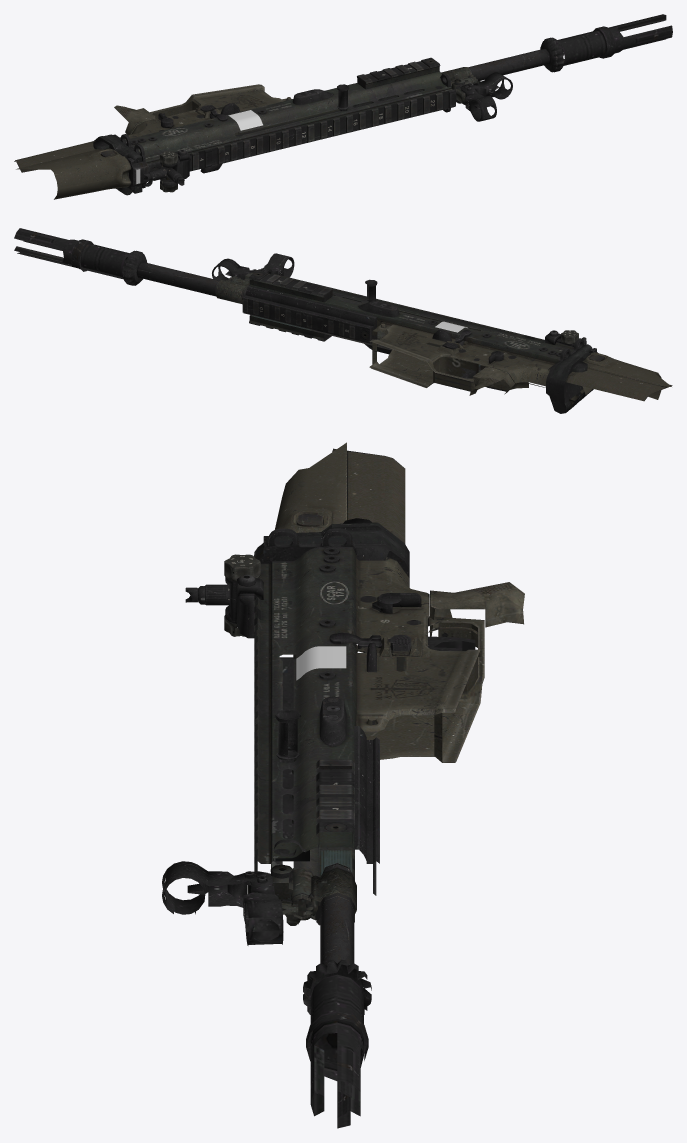
The model's file is t6_wpn_ar_scarh_view_LOD0.obj.
3 views of the same model, one above another, from view 1: azimuth 30°, elevation 25°; view 2: azimuth 150°, elevation 25°; view 3: azimuth 270°, elevation 25° (orthographic). The views are drawn at different scales.
Parts seen in each view (by area): view 1: mtl_t6_wpn_ar_scarh_camo1, mtl_t6_wpn_ar_scarh_camo3, mtl_t6_wpn_ar_scarh_camo2, mtl_t6_wpn_ar_scarh_camo4, mtl_player_icon; view 2: mtl_t6_wpn_ar_scarh_camo1, mtl_t6_wpn_ar_scarh_camo2, mtl_t6_wpn_ar_scarh_camo3, mtl_t6_wpn_ar_scarh_camo4; view 3: mtl_t6_wpn_ar_scarh_camo1, mtl_t6_wpn_ar_scarh_camo3, mtl_t6_wpn_ar_scarh_camo2, mtl_t6_wpn_ar_scarh_camo4, mtl_player_icon.
Part boxes in pixels (x1,y1,x2,y2): mtl_t6_wpn_ar_scarh_camo1: [94, 14, 672, 195]; mtl_t6_wpn_ar_scarh_camo3: [93, 26, 615, 192]; mtl_t6_wpn_ar_scarh_camo2: [16, 90, 291, 199]; mtl_t6_wpn_ar_scarh_camo4: [14, 140, 115, 172]; mtl_player_icon: [228, 110, 262, 130]; mtl_t6_wpn_ar_scarh_camo1: [14, 228, 597, 413]; mtl_t6_wpn_ar_scarh_camo2: [372, 319, 671, 399]; mtl_t6_wpn_ar_scarh_camo3: [71, 239, 587, 387]; mtl_t6_wpn_ar_scarh_camo4: [565, 354, 672, 401]; mtl_t6_wpn_ar_scarh_camo1: [162, 522, 524, 1128]; mtl_t6_wpn_ar_scarh_camo3: [198, 518, 480, 1063]; mtl_t6_wpn_ar_scarh_camo2: [275, 442, 484, 759]; mtl_t6_wpn_ar_scarh_camo4: [297, 448, 405, 543]; mtl_player_icon: [296, 646, 346, 680].
Size of the model in its own units: 86.17 by 7.81 by 20.89.
